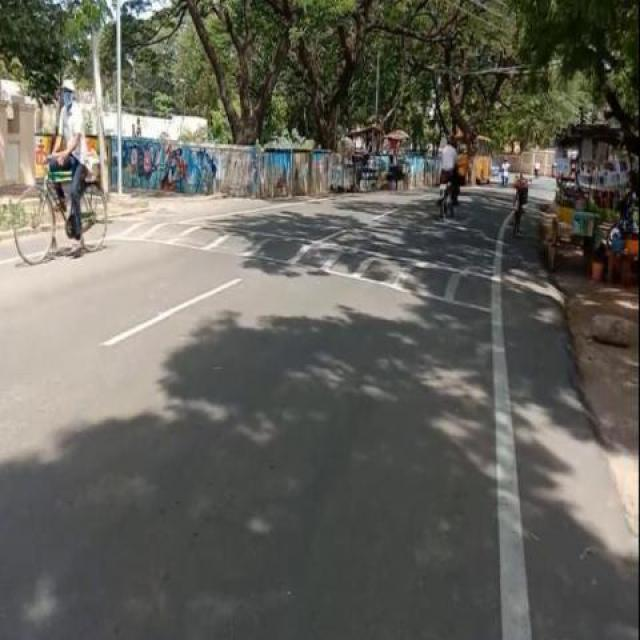Speed Bump: (100, 212, 570, 312)
